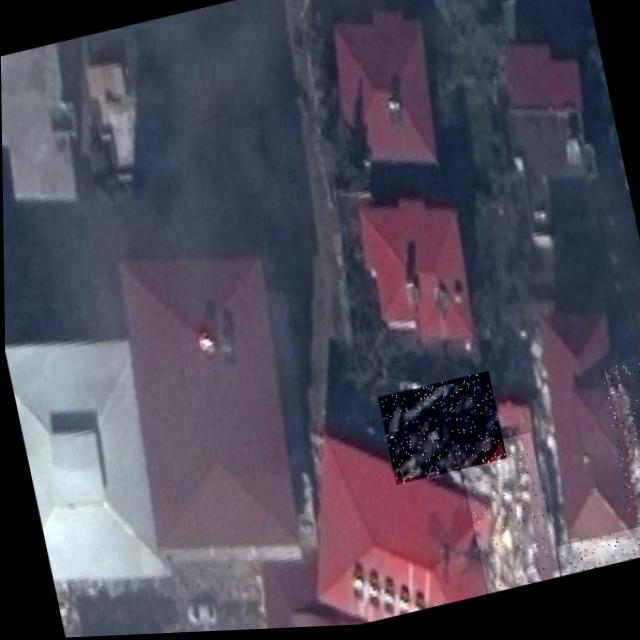Rubble: (456, 437, 559, 599), (377, 375, 506, 489), (597, 363, 640, 532), (554, 528, 640, 581)
